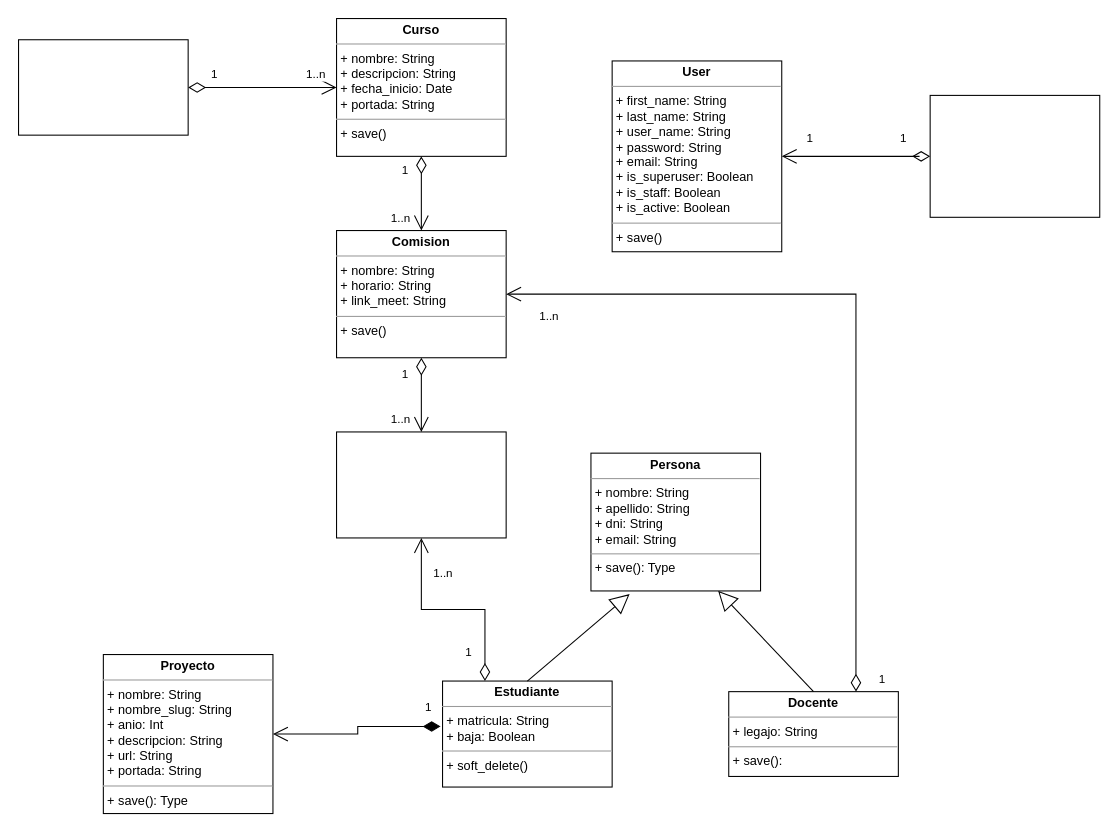
This 1118x832 diagram has some shape labels left out. The shapes that lost their labels are listed below. From the top down, each one's centre as x and y in pixels, then its label:
At point 102,87: "Categoria + nombre: String + baja: Boolean + soft_delete()".
At point 1014,155: "Perfil + telefono: String + domicilio: String + foto : String + save()".
At point 420,484: "Inscripcion + fecha_creacion: Date + estado: Int + cambiarEstado()".
